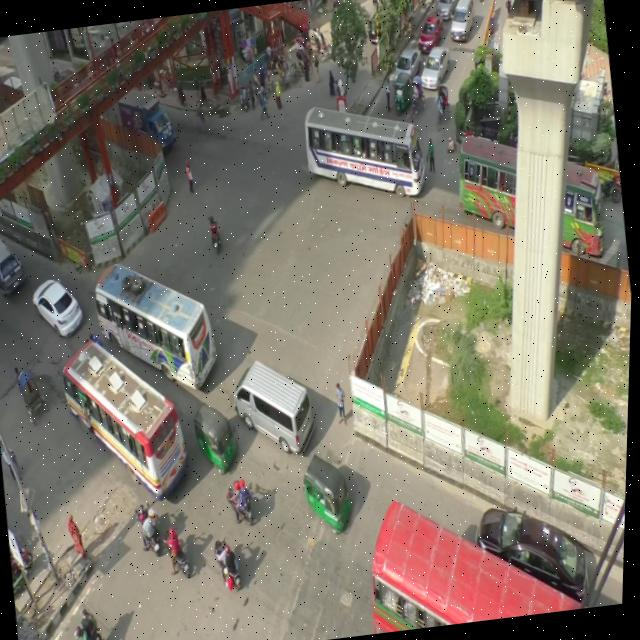cng: (303, 454, 361, 532), (192, 392, 242, 474), (389, 64, 420, 112)
rikshaw: (8, 354, 55, 424), (430, 80, 458, 131), (273, 52, 305, 92), (406, 76, 427, 116), (252, 66, 277, 98), (315, 28, 338, 62)
